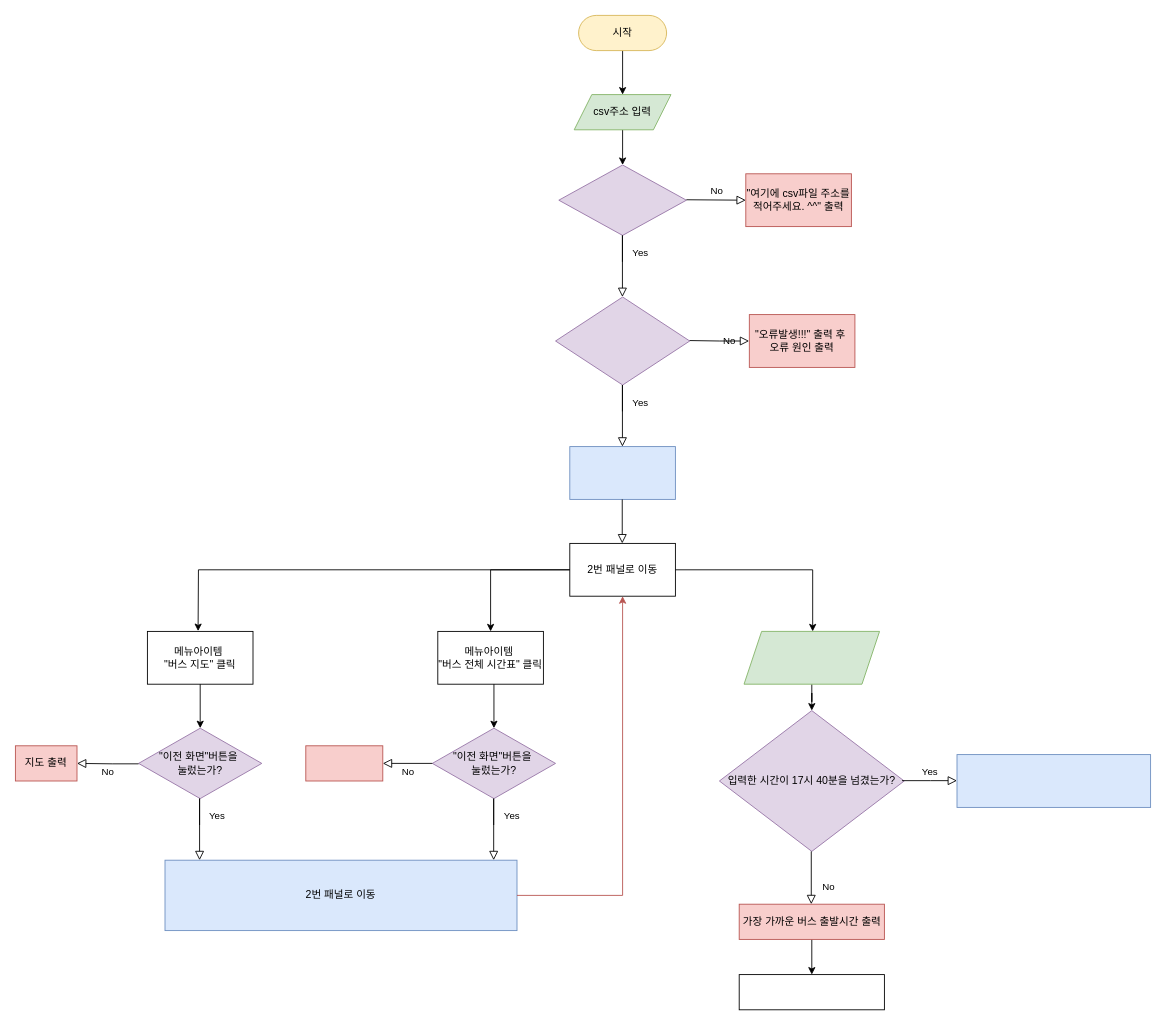
Some shapes in this 1166 by 1025 pixel diagram are drawn without their labels. Each missing label, with the centre of its shape:
"입력하신 시간 이후에는 더 이상 출발하는 버스가 없습니다." 출력: (1053,780)
"찾기" 버튼 클릭: (622,472)
버스 몇 분 후 출발 출력: (811,992)
버스 시간표 출력: (344,763)
입력 칸에 시간과 분 입력: (811,657)
주소를 올바르게 입력했는가?: (622,340)
주소를 입력했는가?: (622,199)
